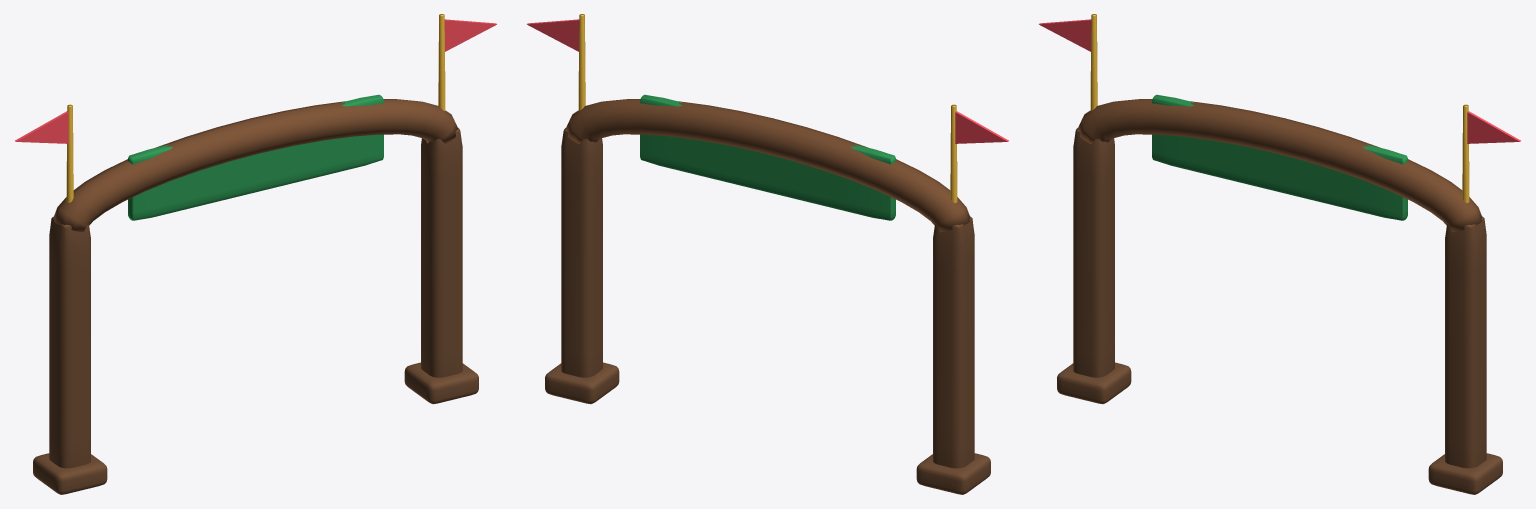
File: DiceDashArchStart.obj
3 renders of one model, left to right at view 1: azimuth 30°, elevation 25°; view 2: azimuth 150°, elevation 25°; view 3: azimuth 330°, elevation 25°, orthographic.
Parts seen in each view (by area): view 1: Posts, Beam, Banner, Flags, Poles; view 2: Posts, Beam, Banner, Flags, Poles; view 3: Posts, Beam, Banner, Flags, Poles.
Boxes of the visible parts, box(x1,y1,x2,y2) form: Posts: box(33, 128, 478, 494); Beam: box(53, 99, 458, 232); Banner: box(128, 94, 383, 220); Flags: box(15, 19, 496, 143); Poles: box(66, 14, 445, 202); Posts: box(545, 128, 990, 494); Beam: box(566, 99, 970, 232); Banner: box(640, 94, 895, 220); Flags: box(527, 19, 1008, 143); Poles: box(578, 14, 957, 202); Posts: box(1057, 128, 1502, 494); Beam: box(1078, 99, 1482, 232); Banner: box(1152, 94, 1407, 220); Flags: box(1039, 19, 1520, 143); Poles: box(1090, 14, 1469, 202).
Bounding box in the file's own units: 22.8 × 17 × 2.4.
